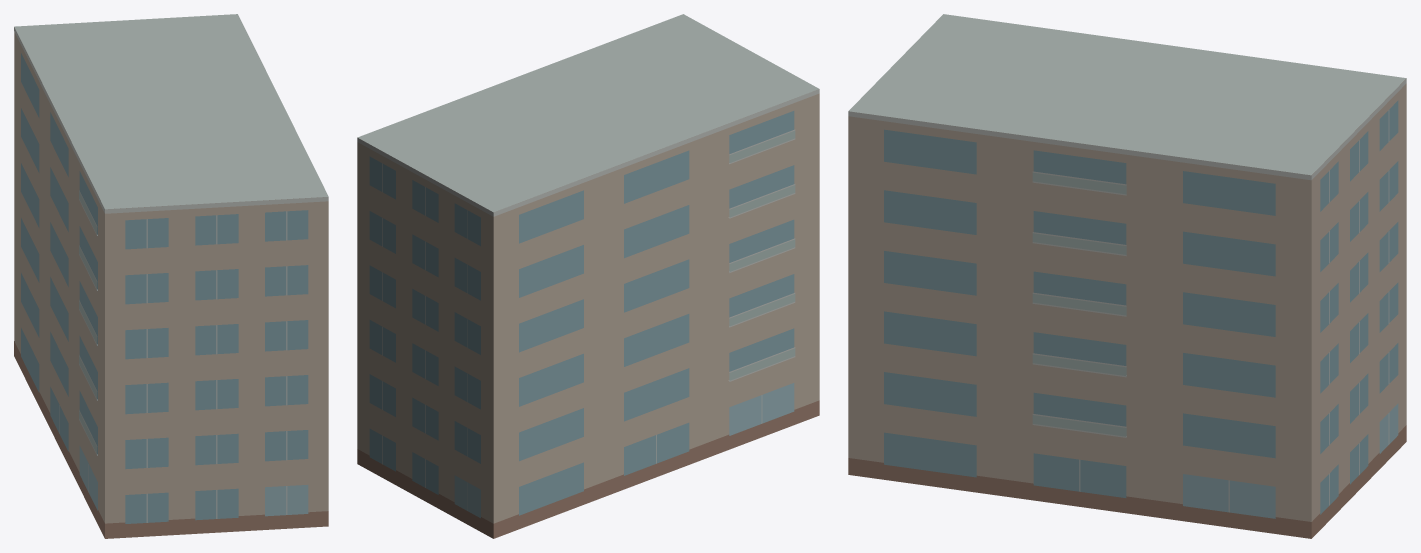
Rendered from survey-upis-32656477.glb.
The picture shows the model from 3 angles, left to right: view 1: azimuth 30°, elevation 25°; view 2: azimuth 150°, elevation 25°; view 3: azimuth 270°, elevation 25°; orthographic projection. The views are drawn at different scales.
Parts seen in each view (by area): view 1: survey-upis-32656477.tmp; view 2: survey-upis-32656477.tmp; view 3: survey-upis-32656477.tmp.
Boxes of the visible parts, <box> form: survey-upis-32656477.tmp: <box>14,14,328,538</box>; survey-upis-32656477.tmp: <box>357,14,819,538</box>; survey-upis-32656477.tmp: <box>848,14,1406,538</box>.
Bounding box in the file's own units: 16.95 × 17.8 × 24.79.
